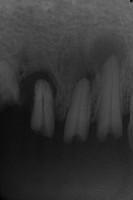Dental Caries: (18, 68, 58, 112)
Furcation Involvement: (54, 33, 126, 89)
